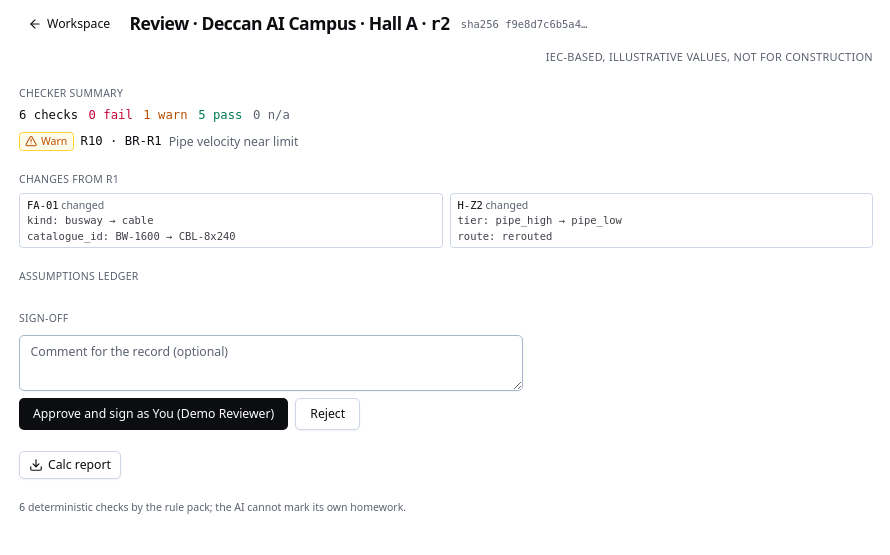
Test: live review gate: approving posts the decision and ticks the checklist
The image size is (890, 555).
Type "Looks right" into the text box named "Review comment" at (271, 363), box [19,335,523,391]
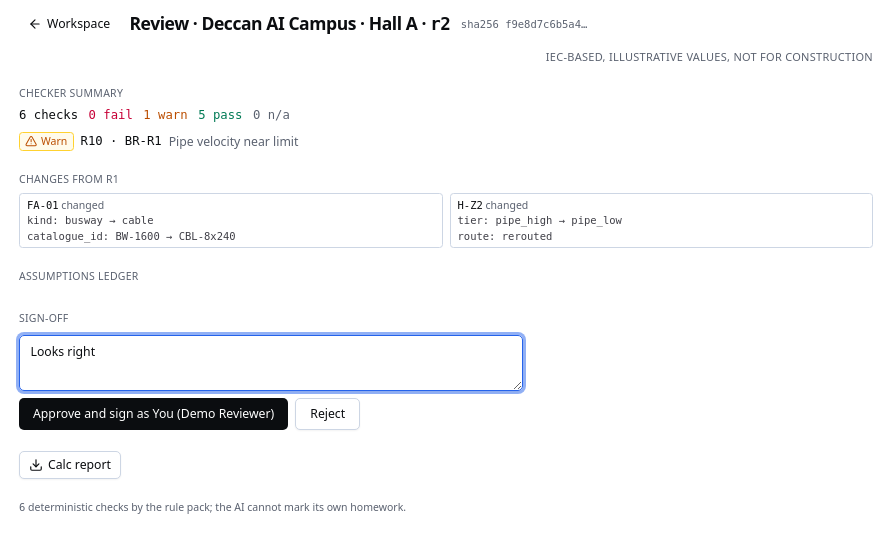
Click the button "Approve and sign as You (Demo Reviewer)" at (154, 414), box [19,398,288,430]
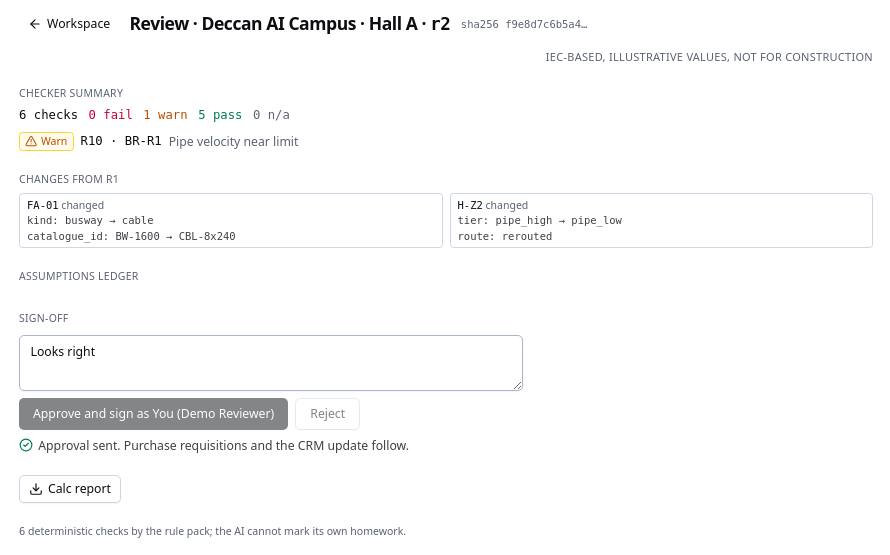
Now the text "Approval sent. Purchase requisitions and the CRM update follow." is shown, box [19,436,409,454]
